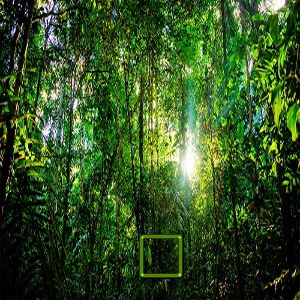square: (139, 234, 183, 278)
